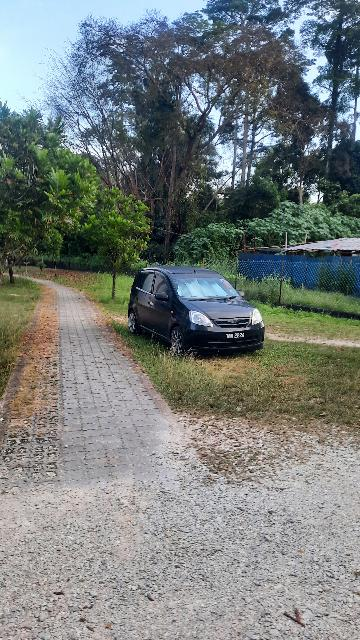License_Plate: (224, 330, 250, 342)
car: (126, 266, 268, 360)
